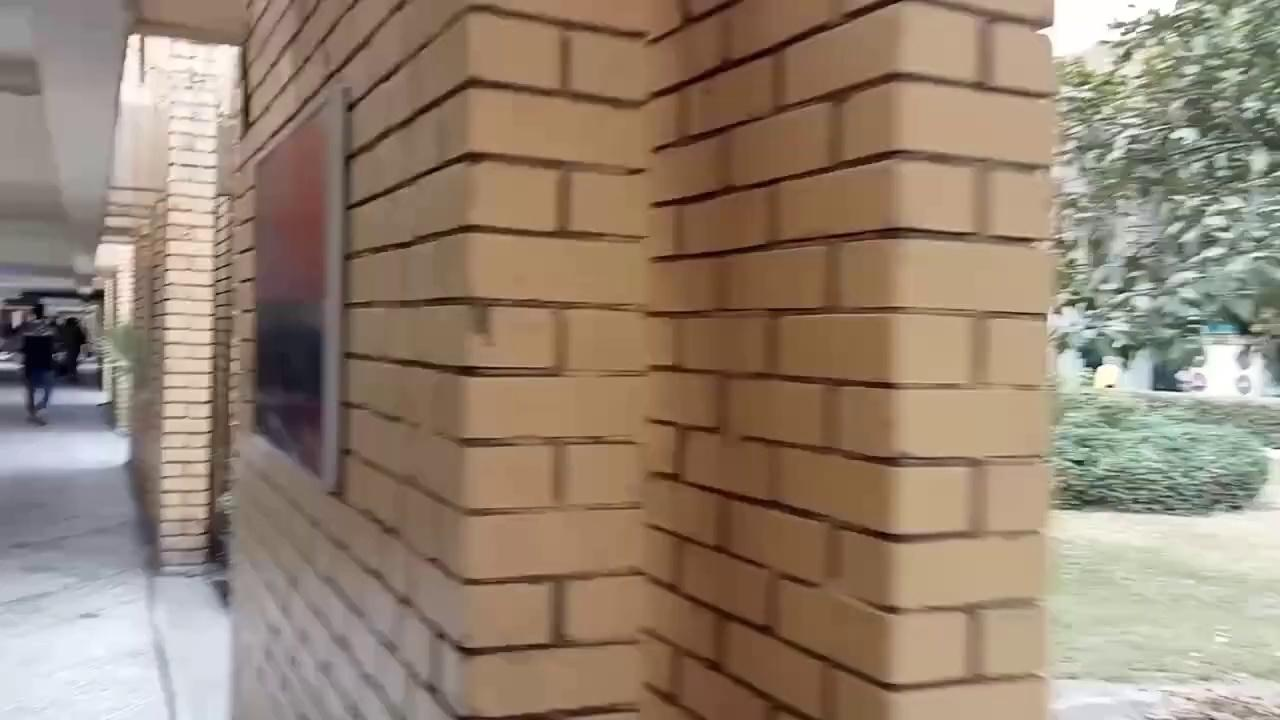person: (15, 303, 58, 425), (60, 316, 85, 382)
tree: (1048, 0, 1280, 327), (1049, 376, 1276, 512)
